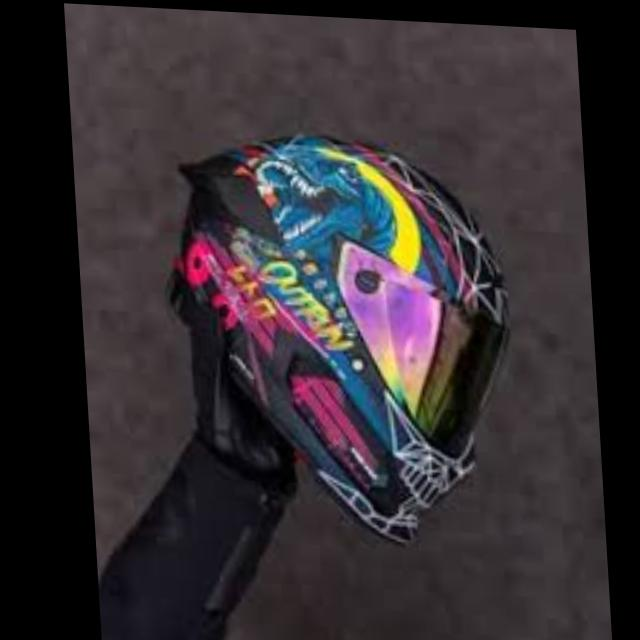motorcycle-helmets: (171, 137, 506, 539)
